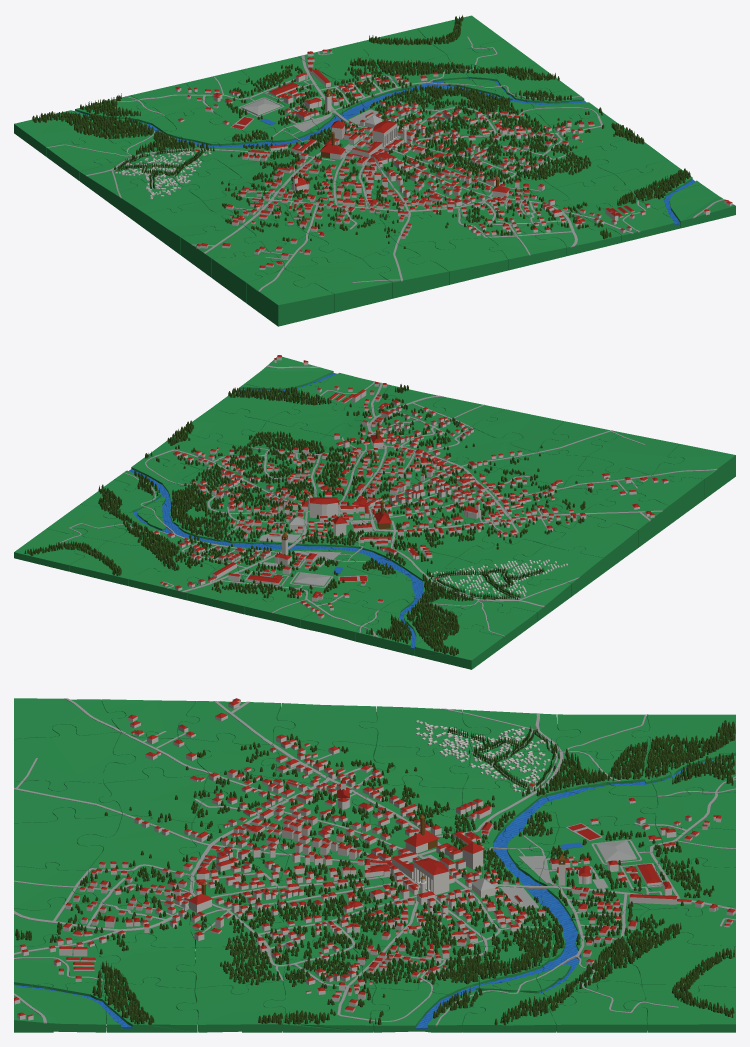
The model's file is pieces.glb.
3 views of the same model, one above another, from view 1: azimuth 30°, elevation 25°; view 2: azimuth 150°, elevation 25°; view 3: azimuth 270°, elevation 25° (orthographic). The views are drawn at different scales.
Visible parts, largest first — view 1: A8, B8, D8, G4, D2, E4, D7, G1, E2, C8, H8, F4 (+52 smaller); view 2: G1, A1, A4, A5, A3, E1, C4, G4, D2, B1, A6, E2 (+52 smaller); view 3: E4, G4, F4, G1, B8, D7, E2, D2, H5, H8, D8, H2 (+52 smaller).
Part boxes in pixels (x1,y1,x2,y2): A8: (246,268,334,326); B8: (285,257,392,312); D8: (398,237,508,284); G4: (450,94,548,145); D2: (209,91,311,133); E4: (327,120,432,170); D7: (384,207,488,249); G1: (354,28,446,75); E2: (263,79,374,121); C8: (362,244,449,298); H8: (639,182,735,228); F4: (398,109,492,151); G1: (69,535,182,585); A1: (414,619,504,669); A4: (507,545,603,596); A5: (547,513,637,573); A3: (481,569,571,621); E1: (187,562,277,614); C4: (393,516,495,557); G4: (155,467,268,511); D2: (280,553,370,599); B1: (355,610,444,655); A6: (583,490,669,547); E2: (215,532,309,586); E4: (351,842,485,909); G4: (345,941,484,996); F4: (357,875,498,954); G1: (609,926,735,994); B8: (14,724,135,791); D7: (77,814,200,879); E2: (539,854,662,920); D2: (529,816,662,873); H5: (263,977,389,1032); H8: (14,977,128,1032); D8: (14,807,122,872); H2: (536,978,647,1032).
Bounding box in the file's own units: 276 × 20.77 × 276.
